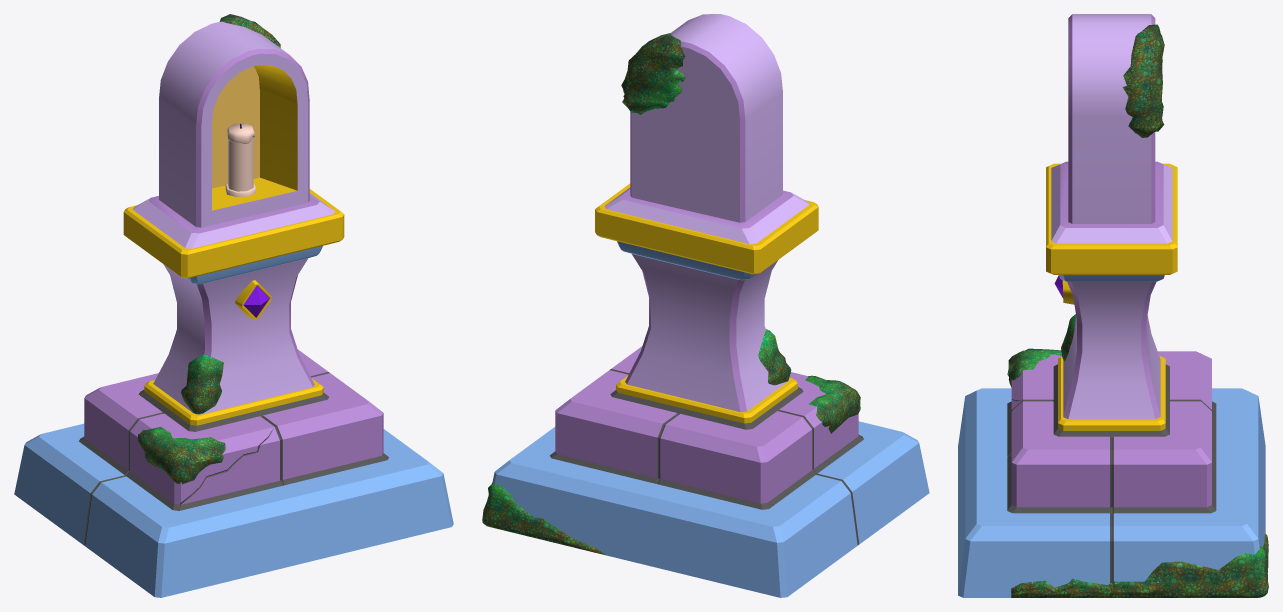
Rendered from SmallAltar.fbx.
The picture shows the model from 3 angles, left to right: view 1: azimuth 30°, elevation 25°; view 2: azimuth 150°, elevation 25°; view 3: azimuth 270°, elevation 25°; orthographic projection. The views are drawn at different scales.
Visible parts, largest first — view 1: SmallAltar_LOD0; view 2: SmallAltar_LOD0; view 3: SmallAltar_LOD0.
Boxes of the visible parts, x1,y1,x2,y2 form: SmallAltar_LOD0: (14, 14, 453, 597); SmallAltar_LOD0: (482, 14, 929, 597); SmallAltar_LOD0: (958, 14, 1268, 597).
Size of what is drawn, in the model's own units: 222 by 334 by 187.
